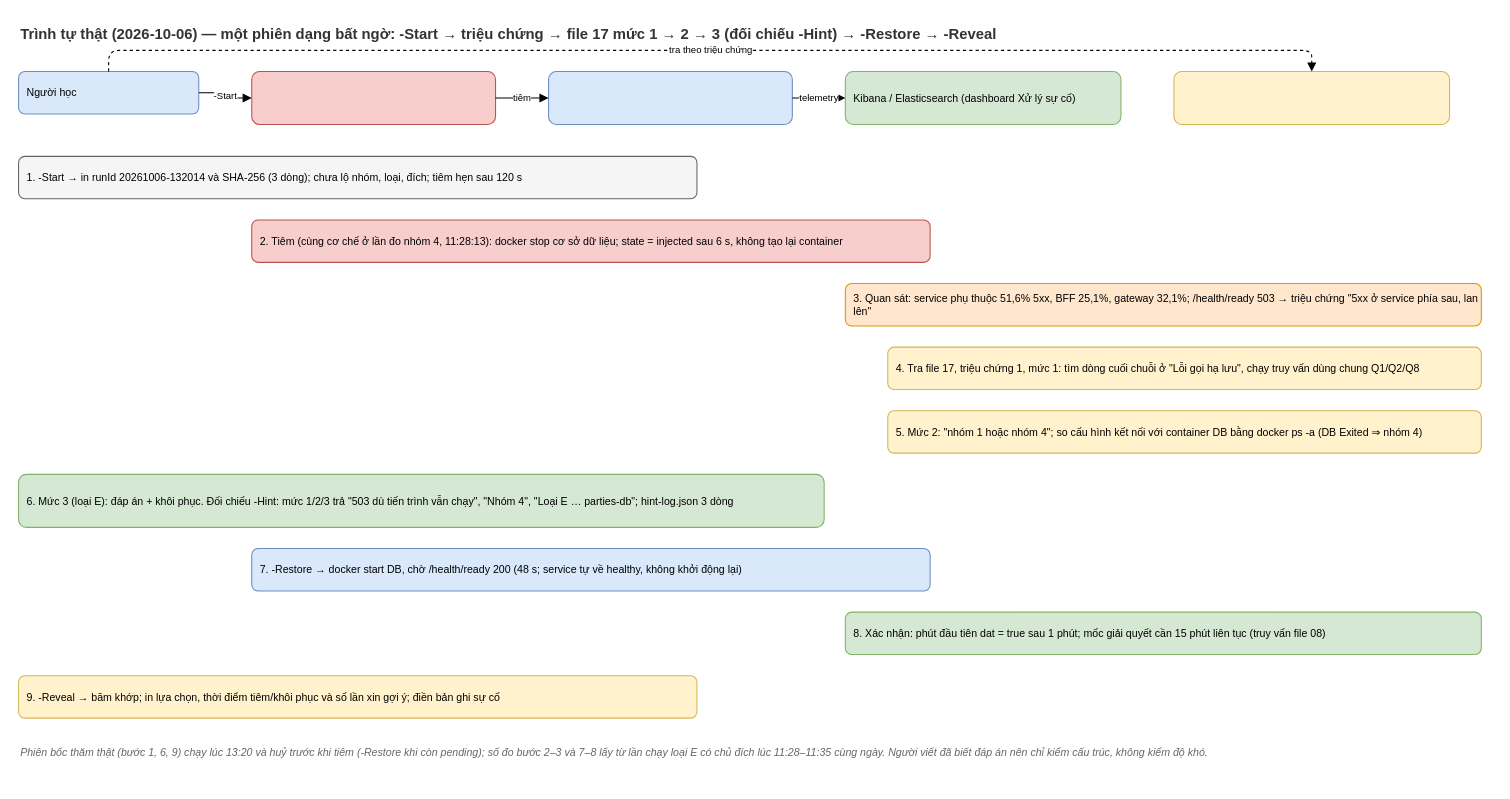
Some shapes in this 1510 by 799 pixel diagram are drawn without their labels. The shapes that lost their labels are listed below. From the top down, each one's centre as x and y in pixels, then its label:
[373,97]: incident-drill.ps1 + catalog.json
[669,97]: Stack Docker Compose
[1311,97]: File 17 — gợi ý theo triệu chứng
